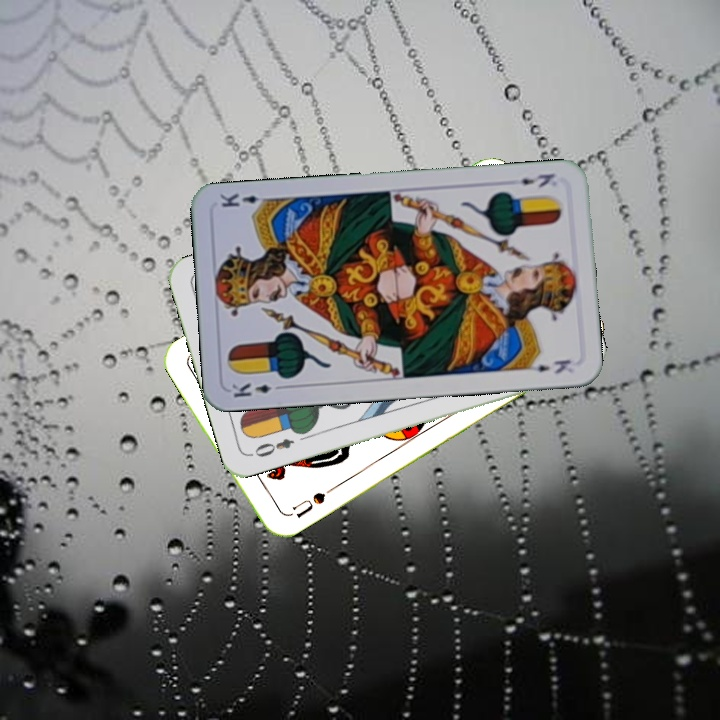EK: (228, 379, 287, 400), (516, 169, 557, 190)
EO: (246, 434, 297, 460)
SU: (281, 488, 328, 521)
